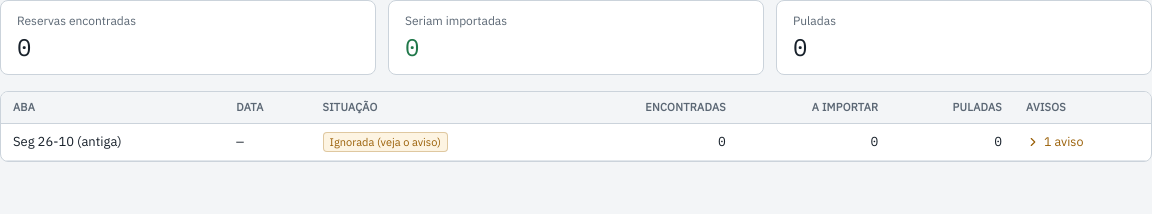
administração (correções) › aba ignorada por outro motivo (oculta) não diz "data não reconhecida": a situação aponta para o aviso
Expected: the row "Seg 26-10 (antiga) — Ignorada (veja o aviso) 0 0 0 1 aviso" is shown, [1, 124, 1151, 161]
Expected: the row "Seg 26-10 (antiga) — Ignorada (veja o aviso) 0 0 0 1 aviso" does not show "data não reconhecida", [1, 124, 1151, 161]
Click the button "1 aviso". click: (1055, 142)
box: [1026, 133, 1083, 151]
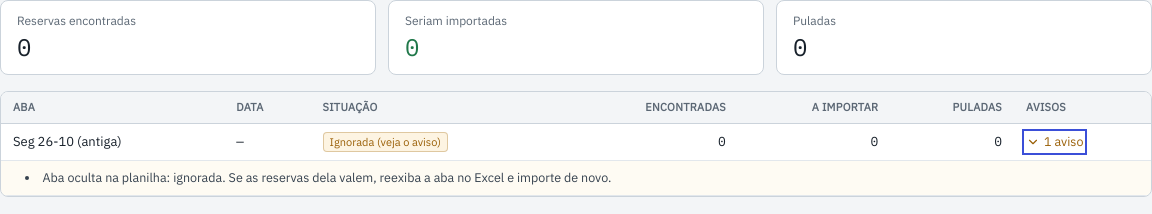
Result: the list item "Aba oculta na planilha: ignorada. Se as reservas dela valem, reexiba a aba no Excel e importe de novo." is shown at [42, 169, 611, 185]
